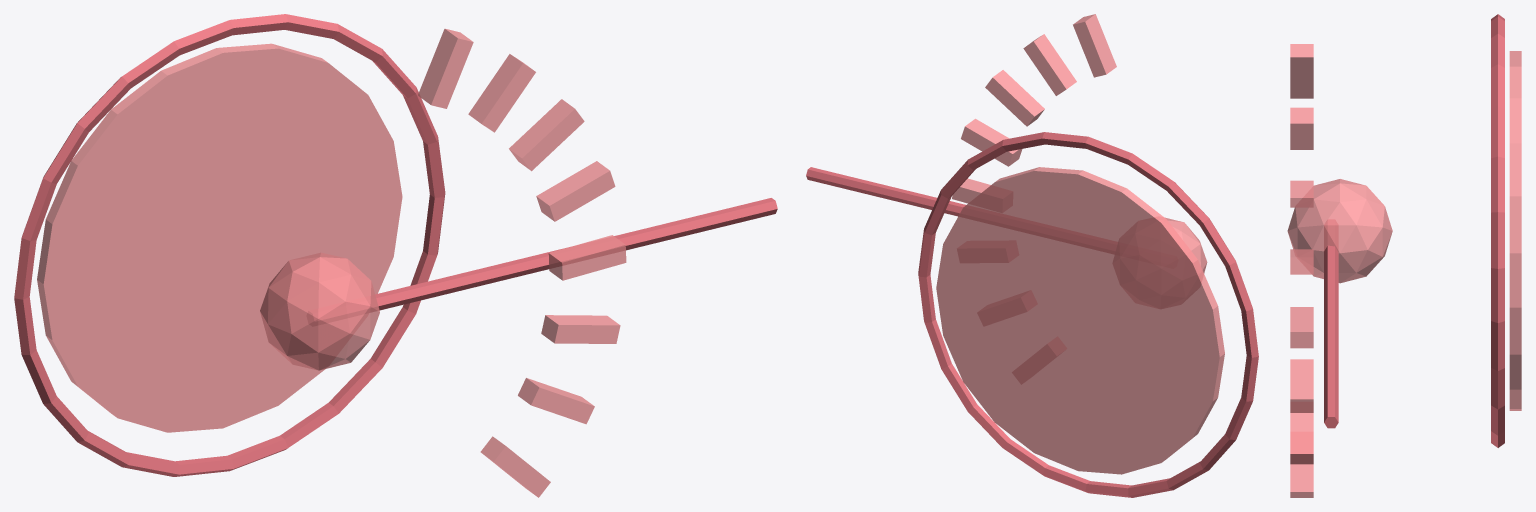
Rendered from 01_class_special_attack_vfx.glb.
3 views of the same model, side by side, from view 1: azimuth 30°, elevation 25°; view 2: azimuth 150°, elevation 25°; view 3: azimuth 270°, elevation 25° (orthographic). The views are drawn at different scales.
Visible parts, largest first — view 1: ability_cast_disc, ability_outer_ring, class_energy_core, tether_line, attack_flow_arc_seg_7, attack_flow_arc_seg_5, attack_flow_arc_seg_6, attack_flow_arc_seg_4, attack_flow_arc_seg_3, attack_flow_arc_seg_2, attack_flow_arc_seg_1, attack_flow_arc_seg_0; view 2: ability_cast_disc, ability_outer_ring, tether_line, attack_flow_arc_seg_7, attack_flow_arc_seg_5, attack_flow_arc_seg_6, attack_flow_arc_seg_4, class_energy_core, attack_flow_arc_seg_3; view 3: class_energy_core, ability_outer_ring, ability_cast_disc, tether_line, attack_flow_arc_seg_7, attack_flow_arc_seg_2, attack_flow_arc_seg_1, attack_flow_arc_seg_6, attack_flow_arc_seg_3, attack_flow_arc_seg_0, attack_flow_arc_seg_5, attack_flow_arc_seg_4.
Part boxes in pixels (<box>): ability_cast_disc: <box>37,43,402,432</box>; ability_outer_ring: <box>14,14,445,476</box>; class_energy_core: <box>260,252,379,370</box>; tether_line: <box>307,198,777,325</box>; attack_flow_arc_seg_7: <box>418,28,473,108</box>; attack_flow_arc_seg_5: <box>509,99,584,171</box>; attack_flow_arc_seg_6: <box>468,54,535,132</box>; attack_flow_arc_seg_4: <box>536,161,615,221</box>; attack_flow_arc_seg_3: <box>548,235,626,280</box>; attack_flow_arc_seg_2: <box>541,315,620,343</box>; attack_flow_arc_seg_1: <box>518,378,594,424</box>; attack_flow_arc_seg_0: <box>480,436,550,497</box>; ability_cast_disc: <box>936,167,1224,474</box>; ability_outer_ring: <box>918,132,1258,497</box>; tether_line: <box>806,167,1117,253</box>; attack_flow_arc_seg_7: <box>1073,14,1116,77</box>; attack_flow_arc_seg_5: <box>985,70,1044,126</box>; attack_flow_arc_seg_6: <box>1023,34,1076,95</box>; attack_flow_arc_seg_4: <box>961,118,1022,166</box>; class_energy_core: <box>1164,217,1207,273</box>; attack_flow_arc_seg_3: <box>952,178,991,203</box>; class_energy_core: <box>1287,179,1392,283</box>; ability_outer_ring: <box>1491,14,1504,447</box>; ability_cast_disc: <box>1509,51,1521,410</box>; tether_line: <box>1324,220,1338,428</box>; attack_flow_arc_seg_7: <box>1290,44,1313,98</box>; attack_flow_arc_seg_2: <box>1290,359,1313,412</box>; attack_flow_arc_seg_1: <box>1290,413,1313,464</box>; attack_flow_arc_seg_6: <box>1290,107,1313,149</box>; attack_flow_arc_seg_3: <box>1290,307,1313,348</box>; attack_flow_arc_seg_0: <box>1290,464,1313,497</box>; attack_flow_arc_seg_5: <box>1290,180,1313,207</box>; attack_flow_arc_seg_4: <box>1290,249,1313,274</box>.
Size of the model in its own units: 2.29 by 1.63 by 0.8.
